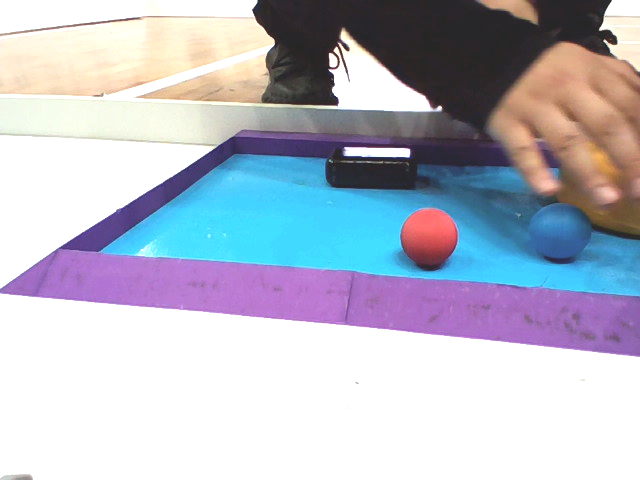black: (326, 148, 416, 187)
blue: (529, 202, 594, 261)
kuang: (2, 124, 640, 358)
red: (400, 206, 456, 263)
